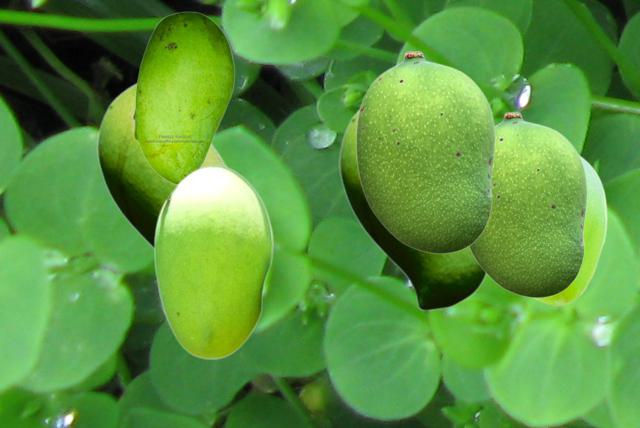green_mango: (338, 108, 487, 310), (355, 50, 494, 253), (153, 164, 272, 358), (96, 81, 230, 248), (469, 111, 586, 297), (132, 11, 234, 184), (530, 152, 606, 304)
